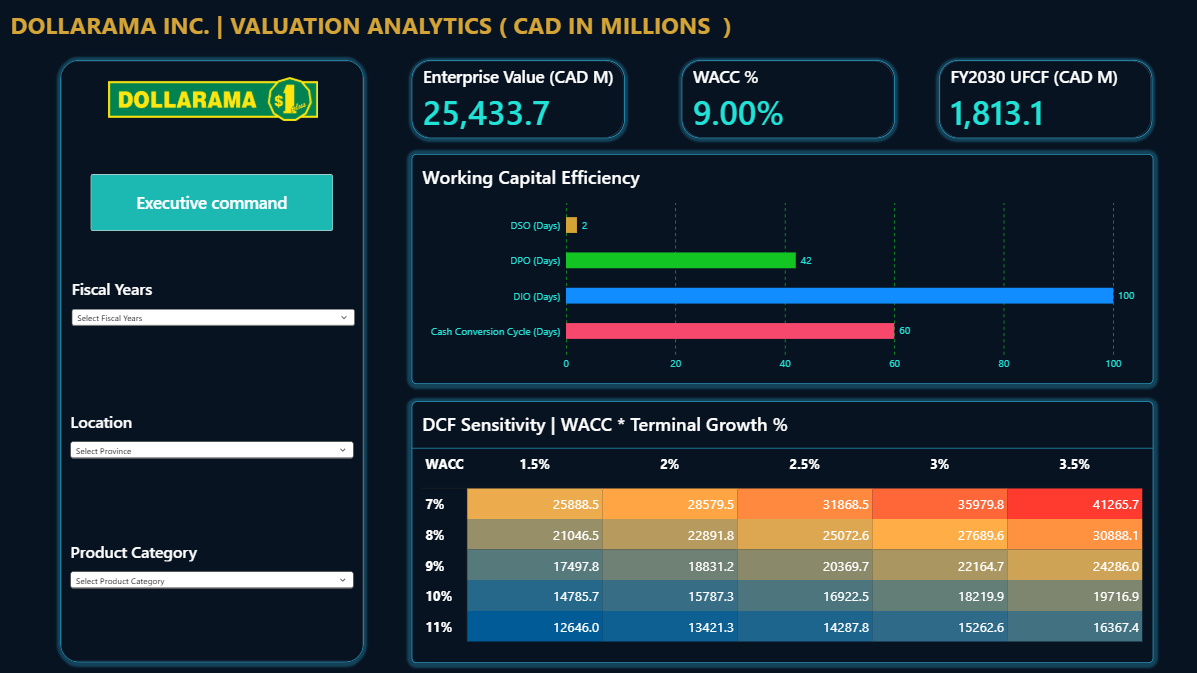

This screenshot's page, from the dashboard's own definition file:
{"tool":"powerbi","page":{"name":"Planning & Valuation","canvas":[1920,1080],"ordinal":1},"visuals":[{"type":"shape","box":[99.6,97.4,484.8,963],"z":0},{"type":"textbox","box":[20,16,1624,60],"z":1000},{"type":"cardVisual","fields":{"Data":["Sum(Fact_DCFMetrics.Value)"]},"box":[661.4,97.7,340.9,125],"z":2000},{"type":"clusteredBarChart","title":"Working Capital Efficiency","fields":{"Category":["Working Capital & Financing.Metrics"],"Y":["Sum(Working Capital & Financing.Days)"]},"box":[661.4,247.7,1186.4,368.2],"z":3000},{"type":"pivotTable","title":"DCF Sensitivity | WACC * Terminal Growth %","fields":{"Columns":["Fact_DCFSensitivity.Terminal Growth"],"Rows":["Fact_DCFSensitivity.WACC"],"Values":["Sum(Fact_DCFSensitivity.Equity Value)"]},"box":[661.4,643.2,1186.4,418.2],"z":4000},{"type":"image","box":[175.3,80.1,336,160],"z":5000},{"type":"listSlicer","fields":{"Values":["Fact_CashFlow.Fiscal Years"]},"box":[102,432,484.8,162.3],"z":6000},{"type":"listSlicer","title":"Location","fields":{"Values":["Fact_CanadaStores.Province"]},"box":[100,644,484.8,162.3],"z":7000},{"type":"listSlicer","title":"Product Category","fields":{"Values":["Fact_ProductCategory.Product Category"]},"box":[100,852,484.8,162.3],"z":8000},{"type":"pageNavigator","box":[148.3,280,388.3,91.7],"z":9000},{"type":"cardVisual","fields":{"Data":["Fact_DCFMetrics.WACC %"]},"box":[1093.2,97.7,340.9,125],"z":10000},{"type":"cardVisual","fields":{"Data":["Sum(Fact_UFCF.Unlevered Free Cash Flow (UFCF))"]},"box":[1506.8,97.7,340.9,125],"z":11000}]}

Visuals, with their boxes in screenshot pixels (x1, y1, x2, y2), scaled from the page's 1920x1080 canvas onto the 1197x673 screenshot:
shape: <region>62, 61, 364, 661</region>
textbox: <region>12, 10, 1025, 47</region>
cardVisual - Sum(Fact_DCFMetrics.Value): <region>412, 61, 625, 139</region>
"Working Capital Efficiency" clusteredBarChart: <region>412, 154, 1152, 384</region>
"DCF Sensitivity | WACC * Terminal Growth %" pivotTable: <region>412, 401, 1152, 661</region>
image: <region>109, 50, 319, 150</region>
listSlicer - Fact_CashFlow.Fiscal Years: <region>64, 269, 366, 370</region>
"Location" listSlicer: <region>62, 401, 365, 502</region>
"Product Category" listSlicer: <region>62, 531, 365, 632</region>
pageNavigator: <region>92, 174, 335, 232</region>
cardVisual - Fact_DCFMetrics.WACC %: <region>682, 61, 894, 139</region>
cardVisual - Sum(Fact_UFCF.Unlevered Free Cash Flow (UFCF)): <region>939, 61, 1152, 139</region>
